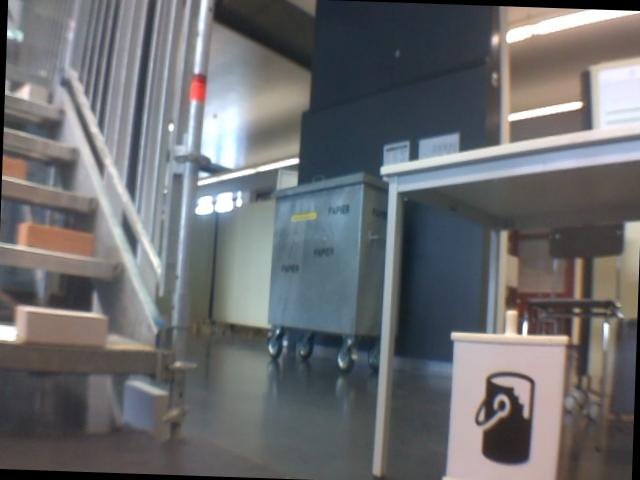brick: (14, 307, 106, 344), (18, 223, 93, 254), (1, 157, 27, 180), (13, 83, 47, 100)
bucket: (461, 367, 544, 469)
edge: (0, 180, 95, 213), (2, 129, 80, 163), (3, 92, 67, 125)
